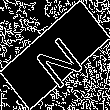N_NW: (26, 23, 84, 87)
